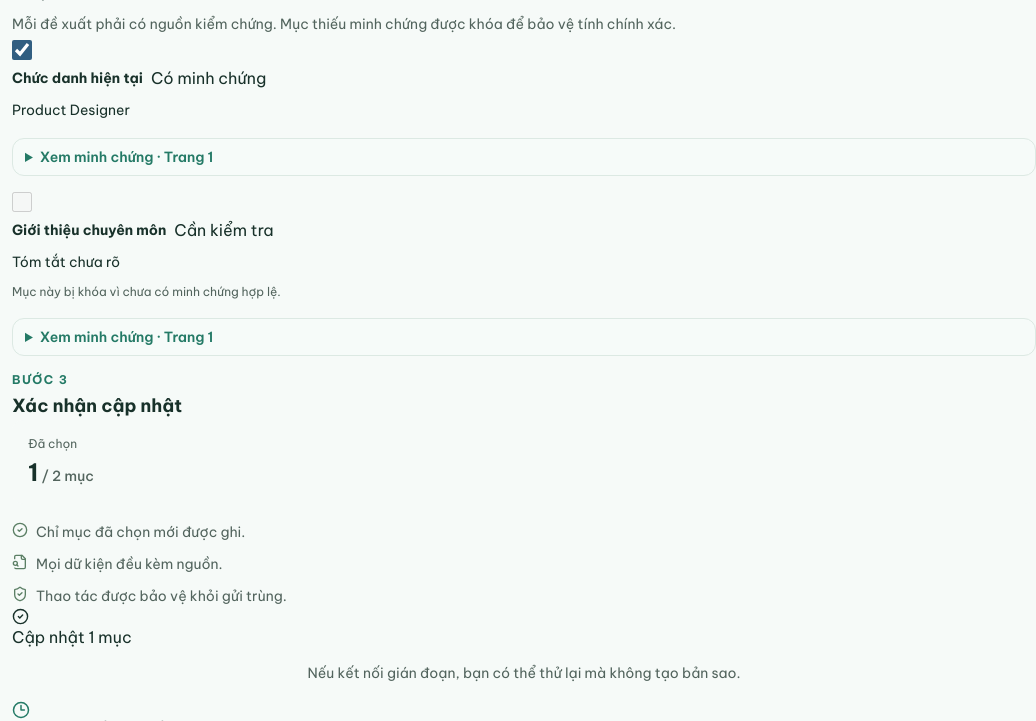
Scenario: profile import review › selects only supported evidence-backed items and sends all review decisions
(page scrolled)
Expected: the checkbox labelled "Chức danh hiện tại Có minh chứng Product Designer" is checked, [12,40,32,60]
Expected: the checkbox labelled "Giới thiệu chuyên môn" is disabled, [12,192,32,212]
Click the button "Cập nhật 1 mục". click: point(72, 628)
box: [12,608,132,649]
(page scrolled)
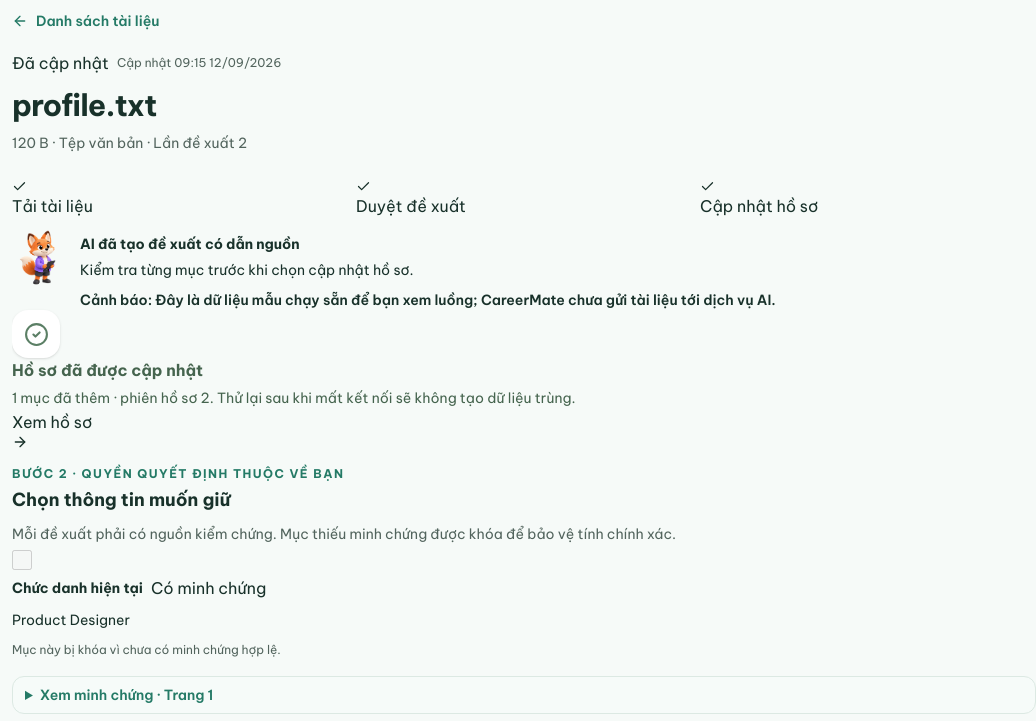
Now the heading "Hồ sơ đã được cập nhật" is shown, box [12,360,203,380]
